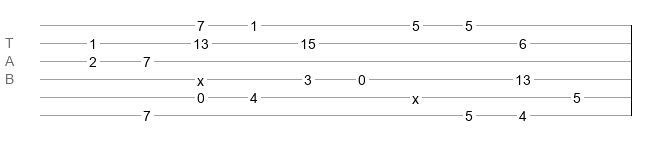0: (197, 90, 205, 100), (358, 72, 366, 82)
1: (89, 36, 97, 46), (250, 18, 258, 28)
13: (193, 36, 209, 46), (515, 72, 531, 82)
15: (300, 36, 316, 46)
2: (89, 54, 97, 64)
3: (304, 72, 312, 82)
4: (250, 90, 258, 100), (519, 108, 527, 118)
5: (412, 18, 420, 28), (465, 108, 473, 118), (465, 18, 473, 28), (573, 90, 581, 100)
6: (519, 36, 527, 46)
7: (143, 54, 151, 64), (143, 108, 151, 118), (197, 18, 205, 28)
x: (197, 73, 204, 81), (412, 91, 419, 99)
